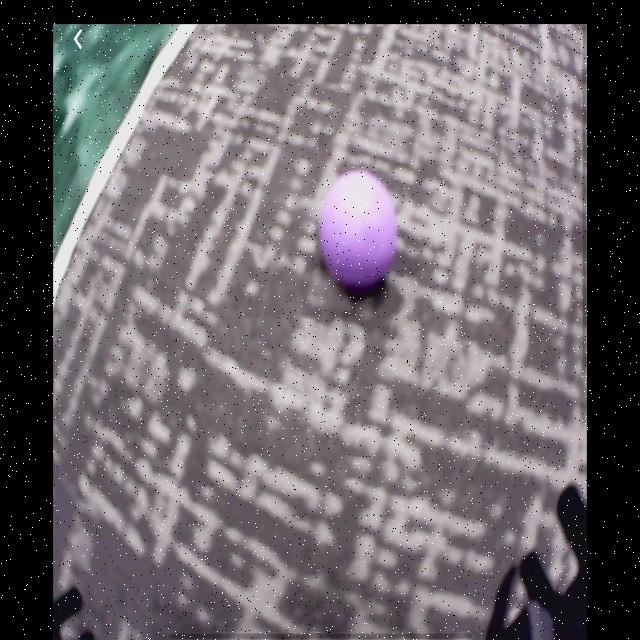ball: (319, 170, 396, 288)
